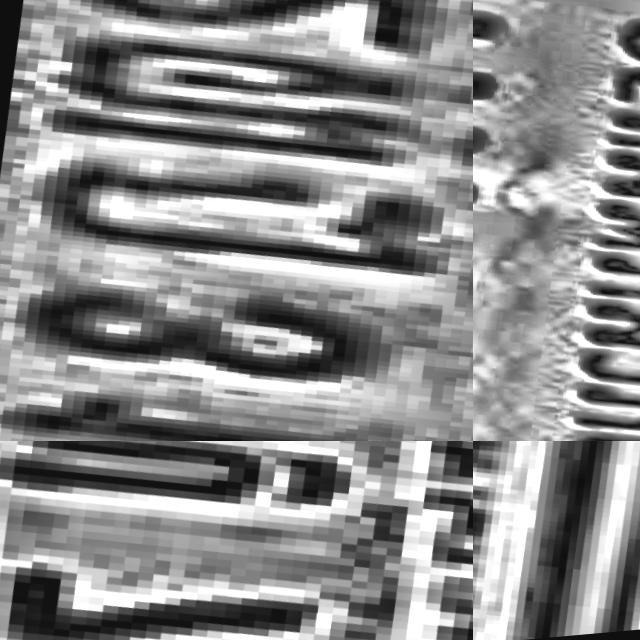license-plate: (0, 0, 473, 441), (0, 441, 473, 640), (473, 0, 640, 441), (473, 441, 640, 640)
